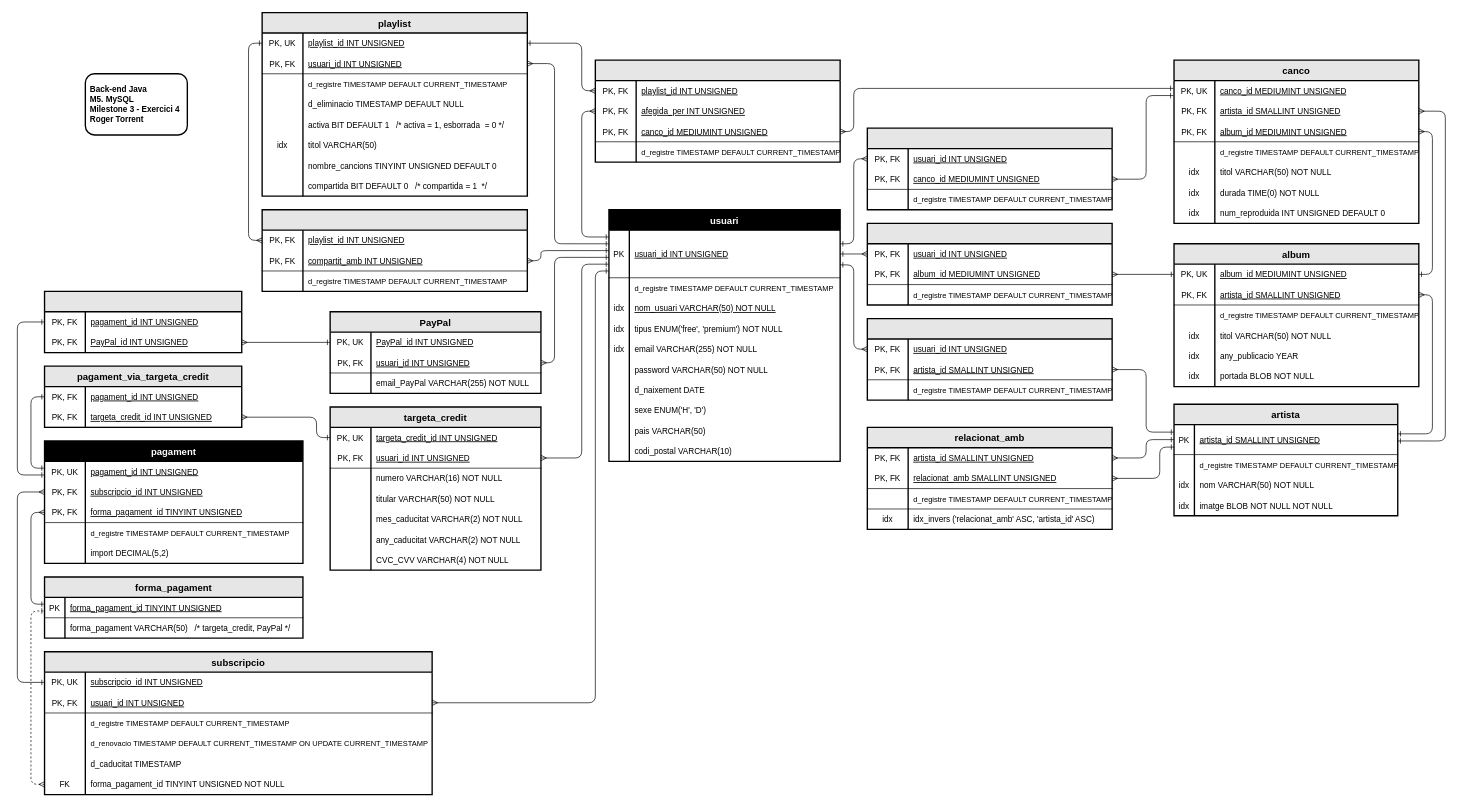
Image size: 1463x806. Some labels were removed from this diagram. The box of each missing label's shape, as (x1, y1, x2, y2) in pixels:
album_favorit: (866, 222, 1112, 305)
canco_favorita: (866, 127, 1112, 210)
cancons_playlist: (594, 59, 840, 163)
follows: (866, 318, 1112, 401)
pagament_via_PayPal: (44, 290, 242, 353)
playlist_compartida: (261, 209, 528, 292)
